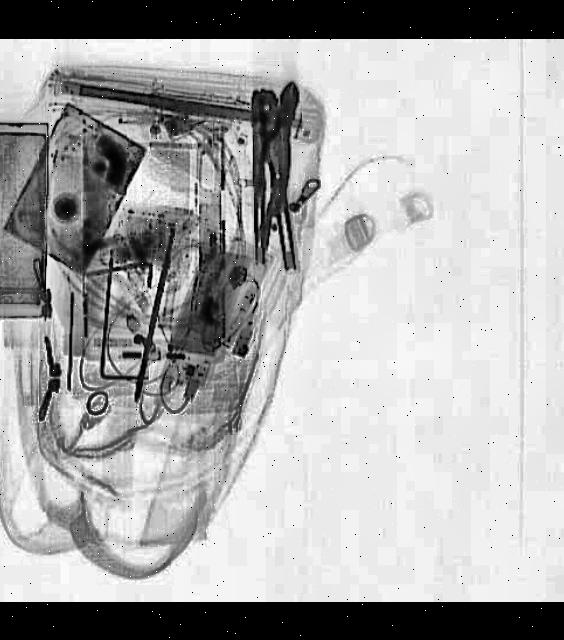Pliers: (234, 78, 318, 252), (245, 89, 299, 274)
